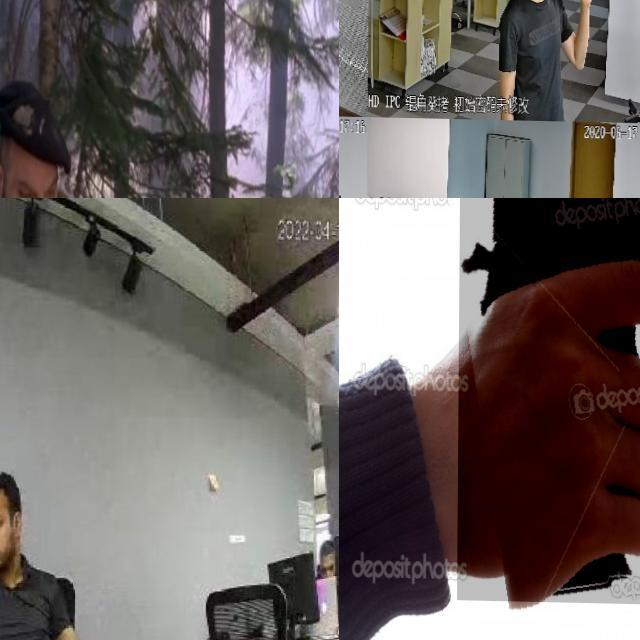gun-knife-thesis - v11 Yolov5 augmented: (457, 198, 640, 607), (339, 0, 378, 50), (564, 0, 591, 34)
